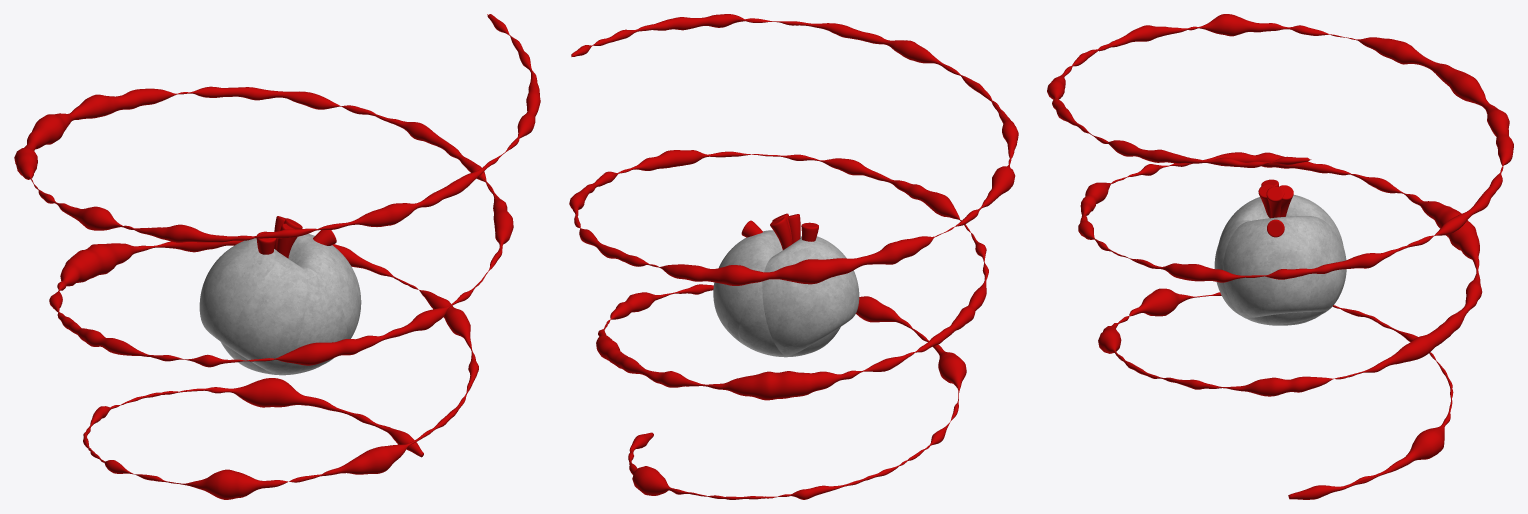
The model's file is asset.glb.
3 views of the same model, side by side, from view 1: azimuth 30°, elevation 25°; view 2: azimuth 150°, elevation 25°; view 3: azimuth 270°, elevation 25° (orthographic). The views are drawn at different scales.
Parts seen in each view (by area): view 1: Spiral, 球体.004, 球体.001, 球体.002; view 2: Spiral, 球体.004, 球体.001, 球体.003; view 3: Spiral, 球体.001, 球体.004, 球体.002, 球体.003, 球体.005.
Boxes of the visible parts, x1,y1,x2,y2 form: Spiral: [14, 14, 540, 499]; 球体.004: [199, 230, 336, 375]; 球体.001: [256, 231, 361, 338]; 球体.002: [245, 216, 346, 373]; Spiral: [569, 14, 1018, 499]; 球体.004: [741, 220, 859, 356]; 球体.001: [713, 222, 818, 353]; 球体.003: [738, 214, 804, 356]; Spiral: [1047, 14, 1513, 499]; 球体.001: [1223, 179, 1345, 318]; 球体.004: [1218, 195, 1343, 246]; 球体.002: [1214, 185, 1306, 325]; 球体.003: [1254, 184, 1346, 324]; 球体.005: [1247, 186, 1319, 325].
Size of the model in its own units: 239061 by 211388 by 237660.
Materials: 4 (4 with a texture image).
